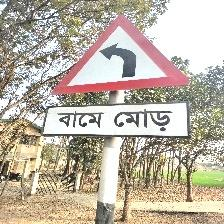Left-Turn: (42, 12, 192, 139)
